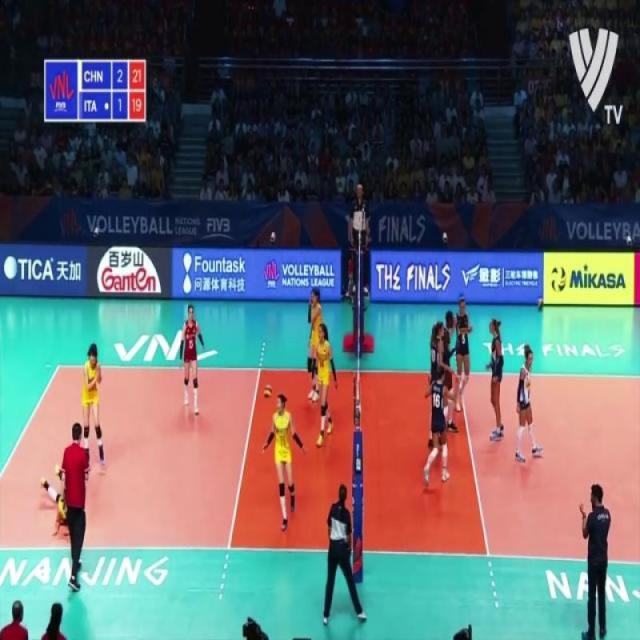volleyball: (551, 266, 567, 293), (262, 383, 274, 402)
